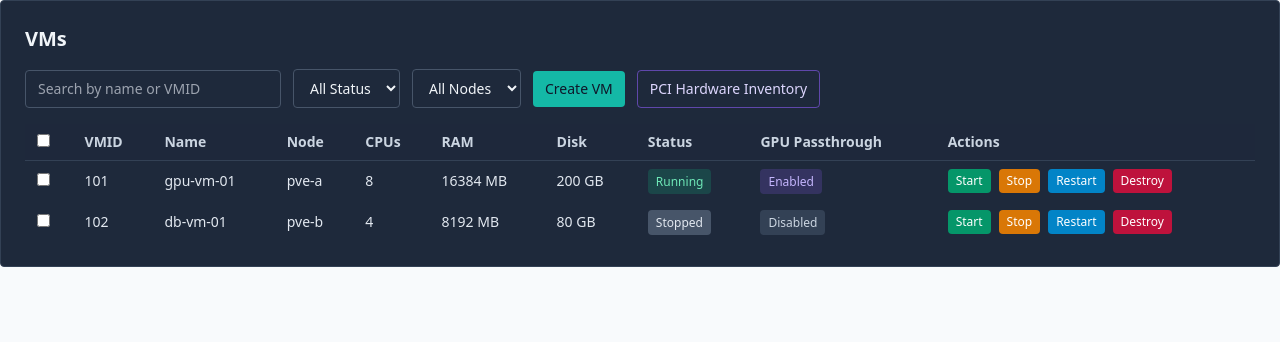
VmListPage › batch action bar appears when VMs are selected
expect the checkbox with test id "checkbox-vm-101" is shown: met, box [37,173,50,186]
Click the checkbox with test id "checkbox-select-all-vms": [44, 140] box [37,134,50,147]
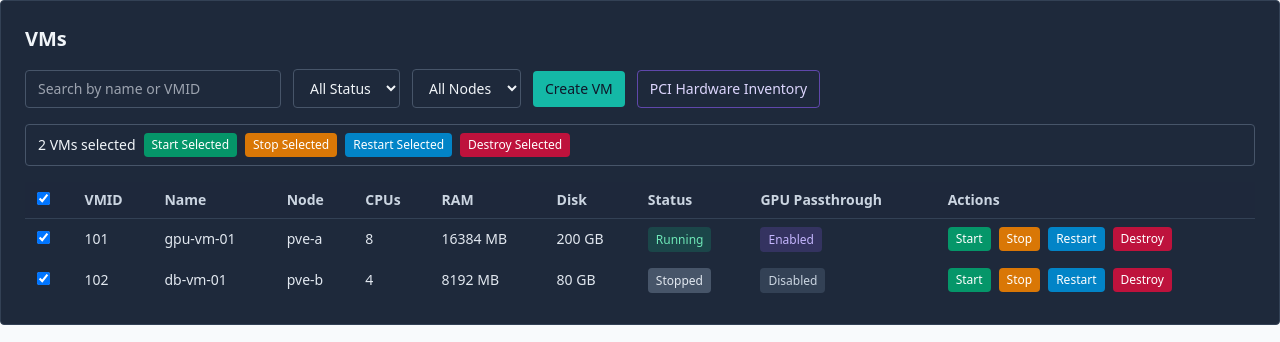
expect the element with test id "batch-action-bar" shows "2 VMs selected": met, box [25,124,1255,166]
